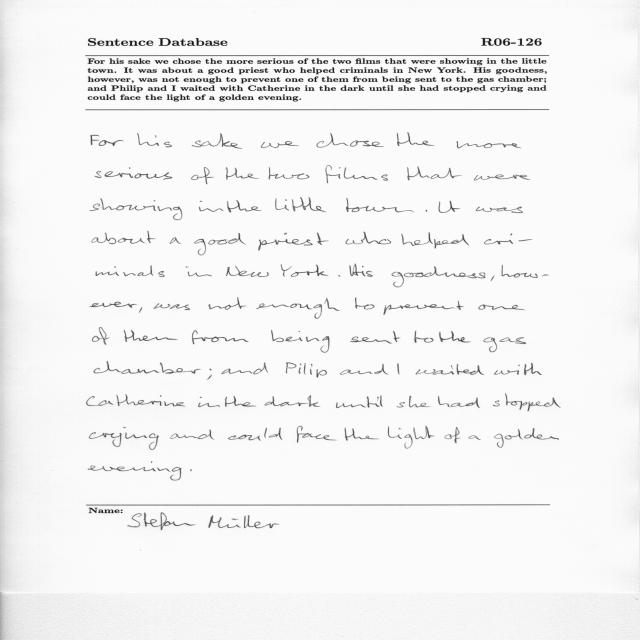word: (90, 198, 183, 220), (392, 267, 486, 288), (88, 462, 182, 481), (256, 298, 340, 319), (89, 427, 159, 450), (94, 361, 201, 374), (271, 330, 330, 353), (494, 428, 559, 448), (258, 233, 329, 251), (87, 394, 185, 407), (383, 300, 464, 315), (401, 232, 469, 249), (194, 233, 246, 255), (493, 394, 560, 411), (325, 166, 388, 183), (388, 426, 434, 449), (317, 133, 384, 148), (95, 167, 172, 180), (346, 198, 414, 212), (92, 231, 156, 244), (96, 265, 165, 277), (192, 133, 243, 149), (192, 331, 249, 345), (407, 167, 462, 181), (416, 364, 485, 375), (275, 198, 326, 212), (228, 428, 282, 441), (297, 426, 337, 443), (264, 395, 320, 407), (351, 331, 401, 344), (124, 330, 178, 342), (483, 337, 526, 352), (281, 264, 329, 277), (286, 363, 327, 378), (502, 265, 549, 278), (336, 396, 383, 409), (494, 363, 542, 375), (222, 363, 268, 375), (346, 232, 391, 244), (340, 364, 389, 375), (269, 167, 310, 180), (484, 234, 532, 245), (438, 396, 480, 408), (137, 133, 172, 147), (397, 133, 434, 146), (226, 266, 269, 277), (209, 298, 247, 310), (456, 141, 521, 148), (345, 428, 380, 441), (226, 167, 260, 180), (227, 200, 261, 213), (170, 430, 214, 440), (191, 167, 215, 184), (397, 396, 431, 407), (91, 135, 123, 146), (439, 331, 471, 342), (474, 175, 531, 181), (225, 396, 256, 407), (349, 264, 373, 277), (93, 327, 110, 345), (476, 207, 523, 213), (90, 302, 137, 308), (478, 305, 525, 311), (199, 201, 224, 212), (185, 267, 212, 277), (261, 141, 299, 148), (438, 201, 460, 213), (154, 303, 190, 310), (445, 427, 460, 443), (415, 331, 434, 343), (355, 298, 375, 309), (198, 397, 220, 407), (170, 237, 181, 244), (468, 435, 481, 440), (207, 369, 212, 380), (491, 276, 495, 282), (397, 364, 399, 375), (139, 307, 142, 313), (426, 210, 428, 212), (338, 275, 340, 277), (190, 469, 192, 471)
